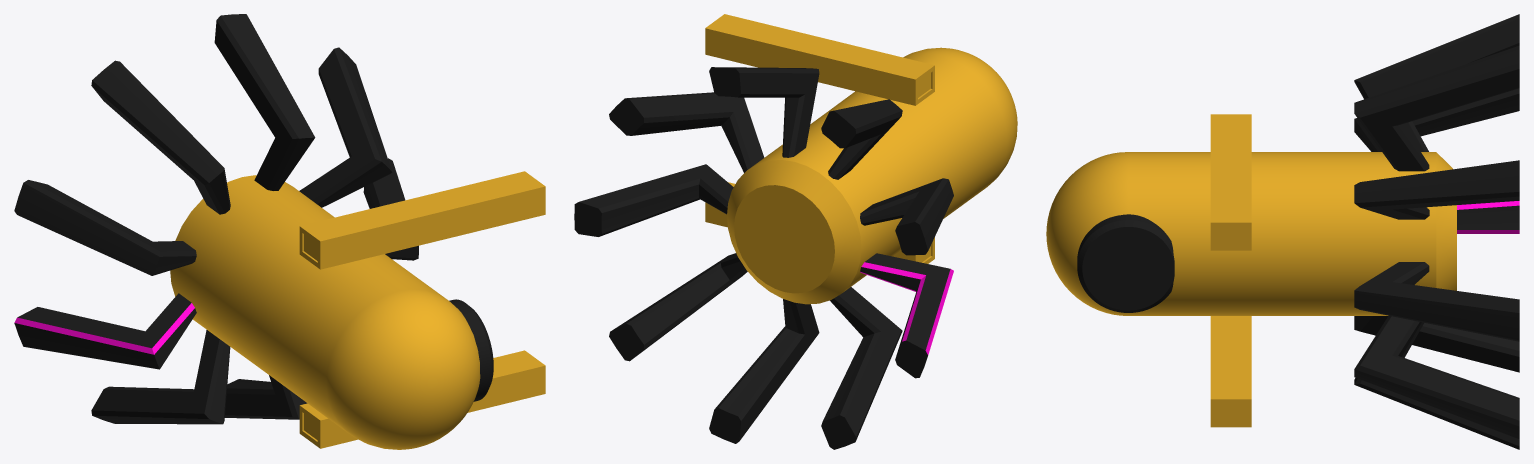
The model's file is Crewmate #0.fbx.
3 views of the same model, side by side, from view 1: azimuth 30°, elevation 25°; view 2: azimuth 150°, elevation 25°; view 3: azimuth 270°, elevation 25° (orthographic). The views are drawn at different scales.
Visible parts, largest first — view 1: Body1, Body3, Body9, Body15, Body10, Body16, Body14, Body8, Body4, Body7, Body2, Body5; view 2: Body1, Body3, Body8, Body16, Body5, Body7, Body9, Body15, Body6, Body10, Body14, Body4; view 3: Body1, Body15, Body2, Body6, Body5, Body16, Body3, Body14, Body4, Body8, Body10, Body9 (+1 smaller).
Part boxes in pixels (x1=…): Body1: x1=170, y1=175, x2=480, y2=449; Body3: x1=299, y1=171, x2=545, y2=269; Body9: x1=14, y1=293, x2=196, y2=369; Body15: x1=214, y1=14, x2=315, y2=190; Body10: x1=14, y1=180, x2=196, y2=275; Body16: x1=299, y1=47, x2=392, y2=207; Body14: x1=91, y1=60, x2=230, y2=214; Body8: x1=91, y1=330, x2=230, y2=424; Body4: x1=299, y1=350, x2=545, y2=448; Body7: x1=224, y1=375, x2=307, y2=419; Body2: x1=449, y1=299, x2=493, y2=401; Body5: x1=363, y1=158, x2=418, y2=260; Body1: x1=727, y1=47, x2=1017, y2=304; Body3: x1=705, y1=14, x2=934, y2=105; Body8: x1=821, y1=287, x2=902, y2=449; Body16: x1=609, y1=92, x2=764, y2=172; Body5: x1=574, y1=164, x2=733, y2=236; Body7: x1=709, y1=299, x2=819, y2=443; Body9: x1=860, y1=253, x2=953, y2=378; Body15: x1=709, y1=67, x2=819, y2=157; Body6: x1=609, y1=253, x2=747, y2=361; Body10: x1=860, y1=178, x2=953, y2=255; Body14: x1=821, y1=99, x2=902, y2=179; Body4: x1=705, y1=182, x2=934, y2=263; Body1: x1=1046, y1=152, x2=1456, y2=315; Body15: x1=1354, y1=45, x2=1519, y2=171; Body2: x1=1077, y1=214, x2=1174, y2=312; Body6: x1=1354, y1=315, x2=1519, y2=439; Body5: x1=1354, y1=262, x2=1519, y2=341; Body16: x1=1354, y1=160, x2=1519, y2=219; Body3: x1=1210, y1=114, x2=1251, y2=250; Body14: x1=1354, y1=14, x2=1519, y2=151; Body4: x1=1210, y1=316, x2=1251, y2=427; Body8: x1=1354, y1=316, x2=1519, y2=372; Body10: x1=1354, y1=88, x2=1519, y2=151; Body9: x1=1457, y1=201, x2=1519, y2=233.
Bounding box in the file's own units: 2103 × 2133 × 2306.
